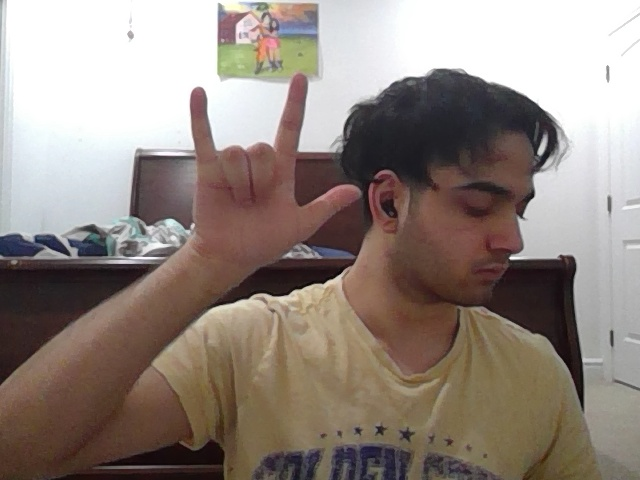iLoveYou: (174, 74, 363, 275)
